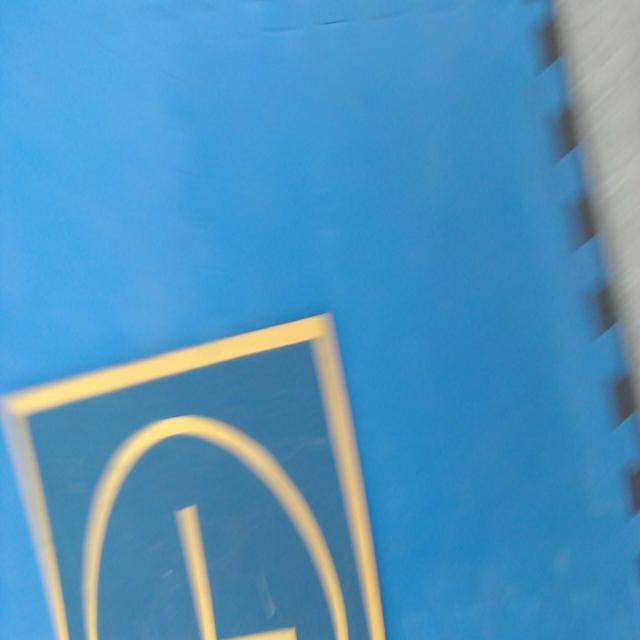base_pouso: (0, 311, 386, 639)
